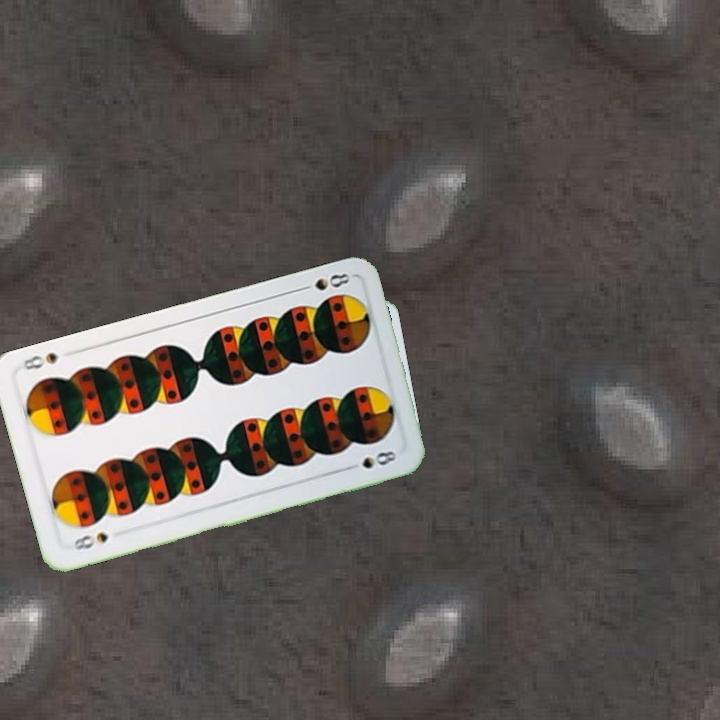S8: (294, 269, 352, 294), (69, 528, 111, 554)
